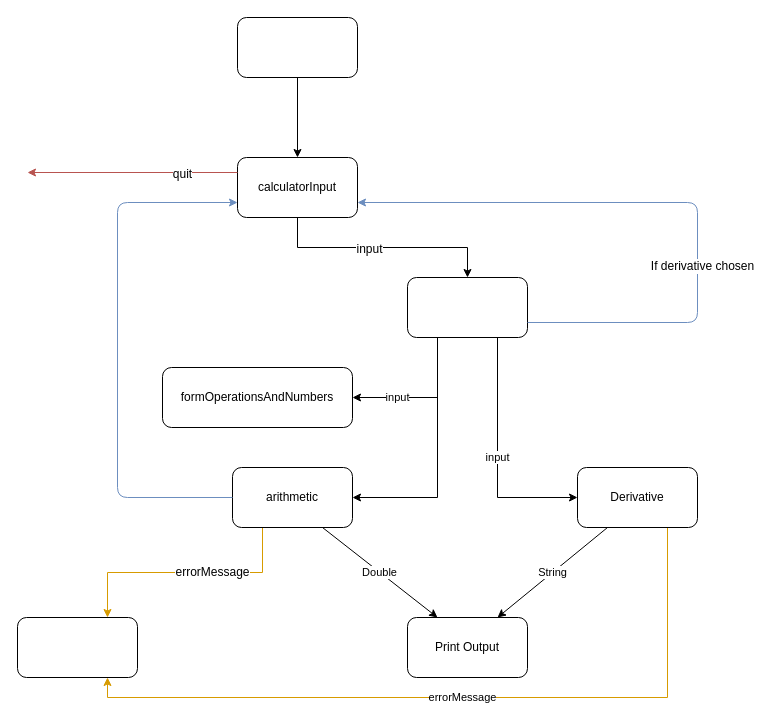
The diagram is 771 pixels wide and 723 high, and some of its shapes have lost their labels. Here are the shapes that lost their labels. From the top down, the box of each, then its label:
(236, 16, 358, 78): main
(406, 276, 528, 338): chooseCalculation
(16, 616, 138, 678): hasFailed
